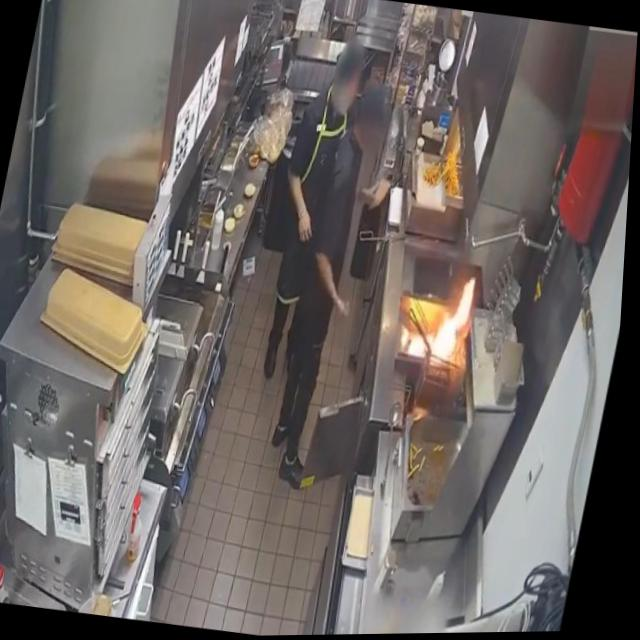fire: (406, 265, 483, 367)
